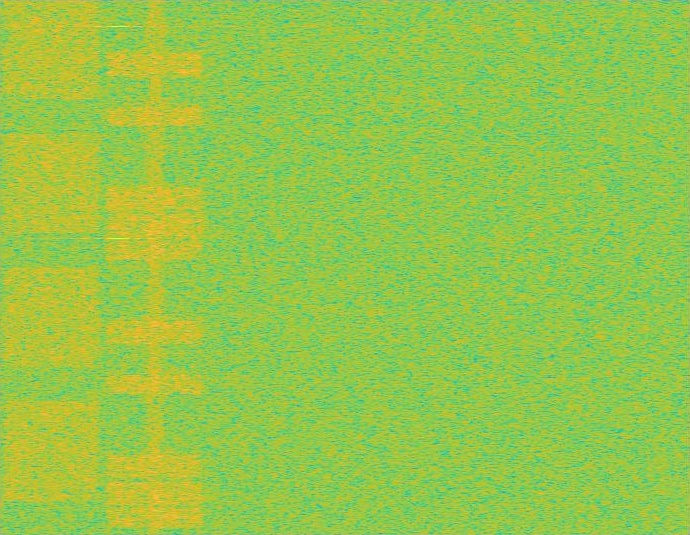5G: (0, 0, 104, 534)
DSSS: (144, 0, 167, 534)
LTE: (104, 0, 207, 534)
Radar: (111, 0, 125, 534)
